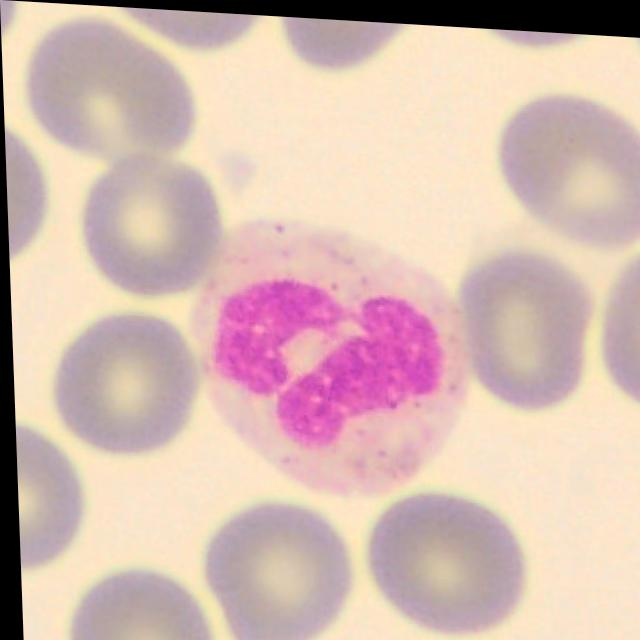Neutrofilo segmentado: (185, 215, 471, 496)
